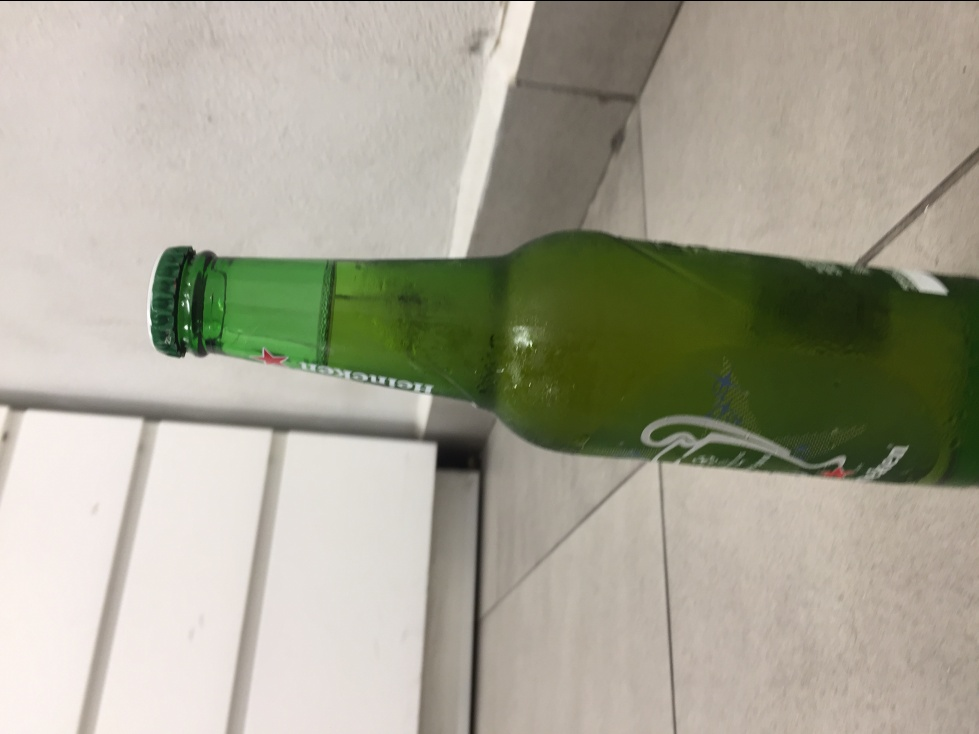heineken: (147, 225, 979, 493)
